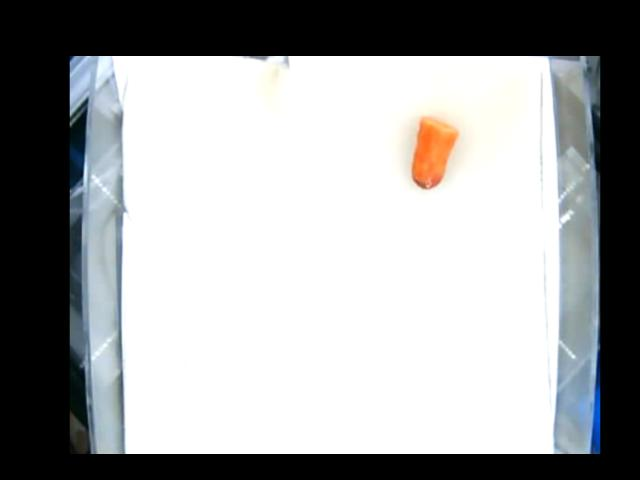Carrot: (412, 118, 459, 187)
